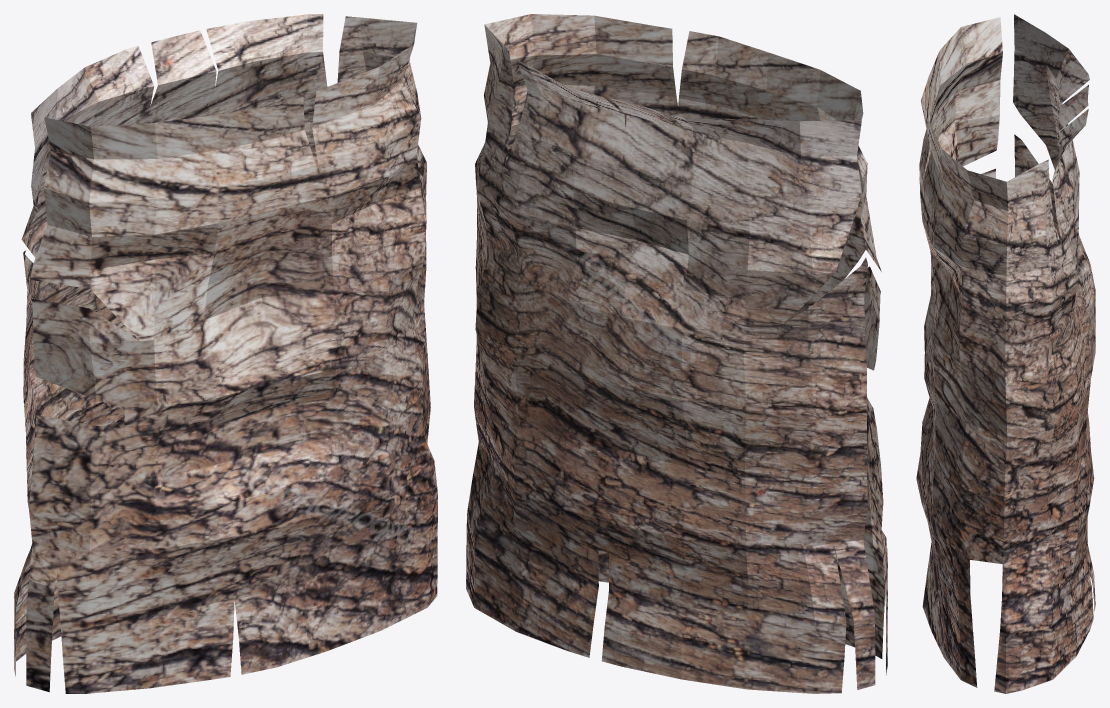
File: kamush.glb
The picture shows the model from 3 angles, left to right: view 1: azimuth 30°, elevation 25°; view 2: azimuth 150°, elevation 25°; view 3: azimuth 270°, elevation 25°; orthographic projection. The views are drawn at different scales.
Visible parts, largest first — view 1: Plane; view 2: Plane; view 3: Plane.
Boxes of the visible parts, bbox=[...] form: Plane: bbox=[14, 14, 437, 693]; Plane: bbox=[466, 14, 887, 693]; Plane: bbox=[916, 14, 1095, 693].
Bounding box in the file's own units: 1.98 × 2.59 × 0.8258.
Materials: 1 (1 with a texture image).
